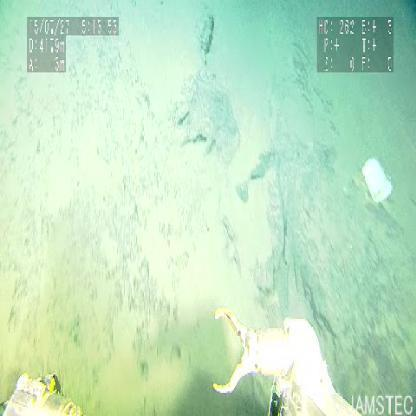Rác: (362, 158, 394, 204)
